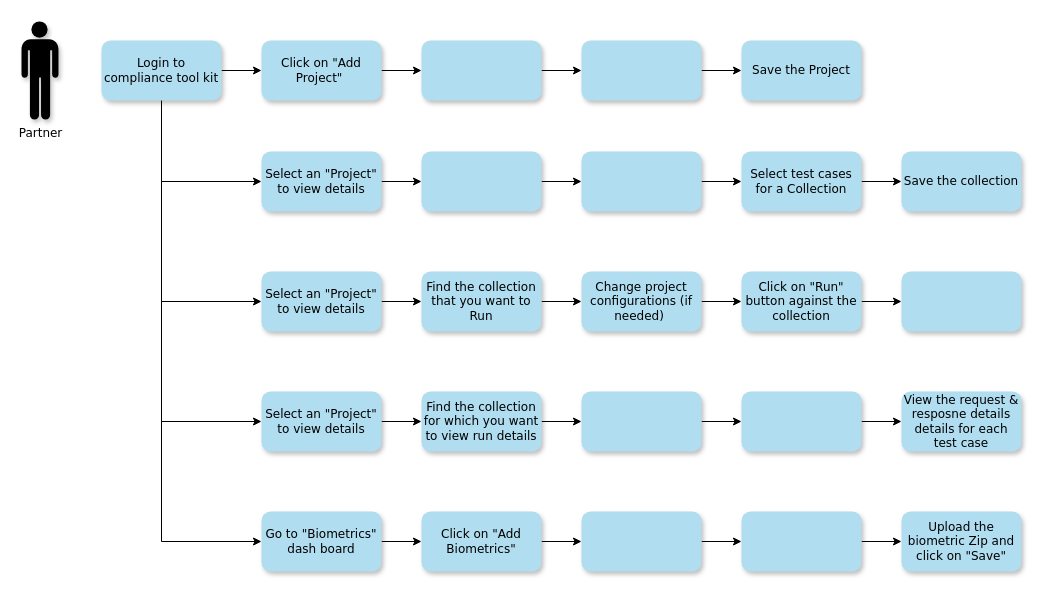
Some shapes in this 1044 by 595 pixel diagram are drawn without their labels. The centre of each missing label's shape, as x and y in pixels:
Click on "Add Collection": pixel 482 182
Click on "Run History" against the collection: pixel 642 422
Enter a unique biometric data name: pixel 642 542
Enter a unique collection name: pixel 642 182
Enter a unique project name: pixel 482 71
Enter all project configurations: pixel 642 71
Follow the instructions as provided during run: pixel 962 302
Provide purpose and other configurations: pixel 802 542
Select the Run which you want to view from the list: pixel 802 422
